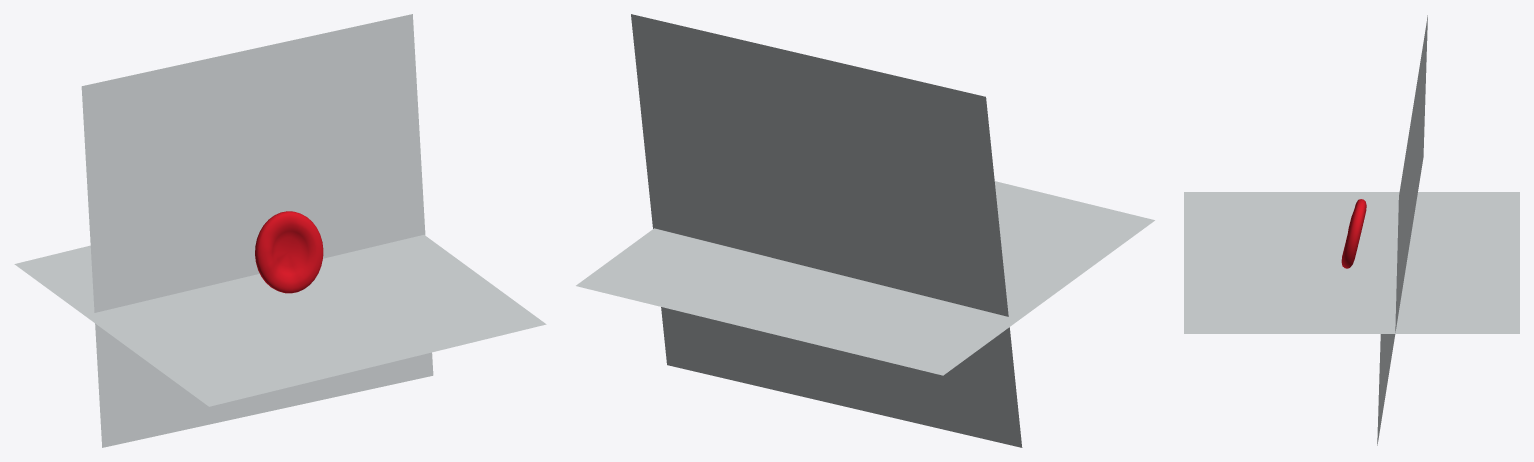
File: redbloodcell.glb
3 renders of one model, left to right at view 1: azimuth 30°, elevation 25°; view 2: azimuth 150°, elevation 25°; view 3: azimuth 270°, elevation 25°, orthographic. The views are drawn at different scales.
Visible parts, largest first — view 1: Plane.001, Plane, Cylinder; view 2: Plane.001, Plane; view 3: Plane, Plane.001, Cylinder.
Part boxes in pixels (x1,y1,x2,y2): Plane.001: (81,14,433,447); Plane: (14,235,546,406); Cylinder: (255,211,323,293); Plane.001: (631,14,1022,447); Plane: (576,181,1154,375); Plane: (1184,192,1519,333); Plane.001: (1377,15,1427,445); Cylinder: (1341,199,1366,268).
Bounding box in the file's own units: 15.78 × 15.25 × 15.55.
